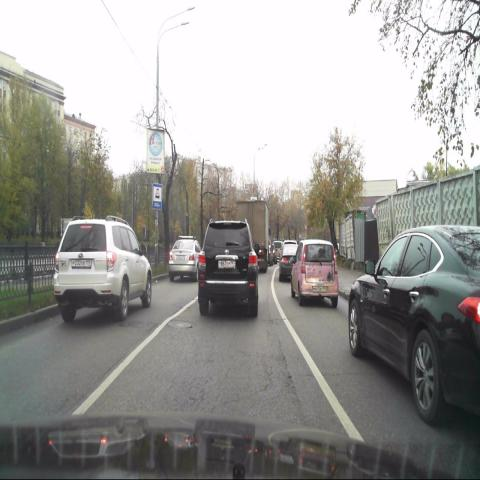7_5: (153, 183, 162, 209)
